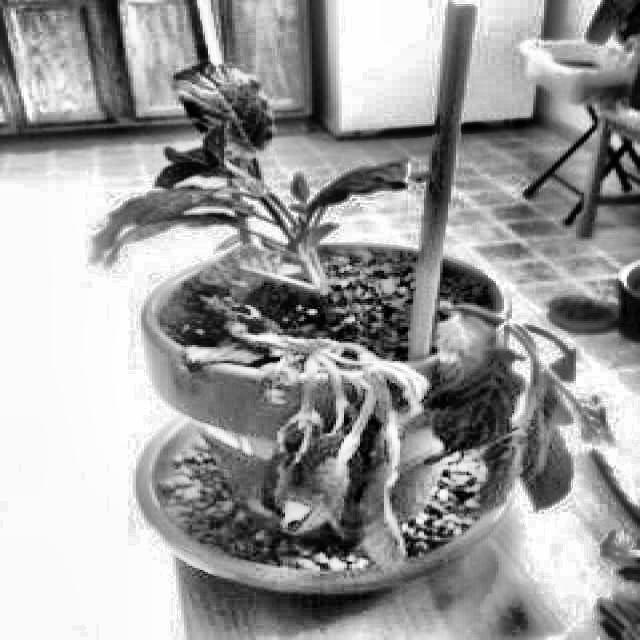plants: (64, 57, 608, 587), (194, 316, 606, 582)
